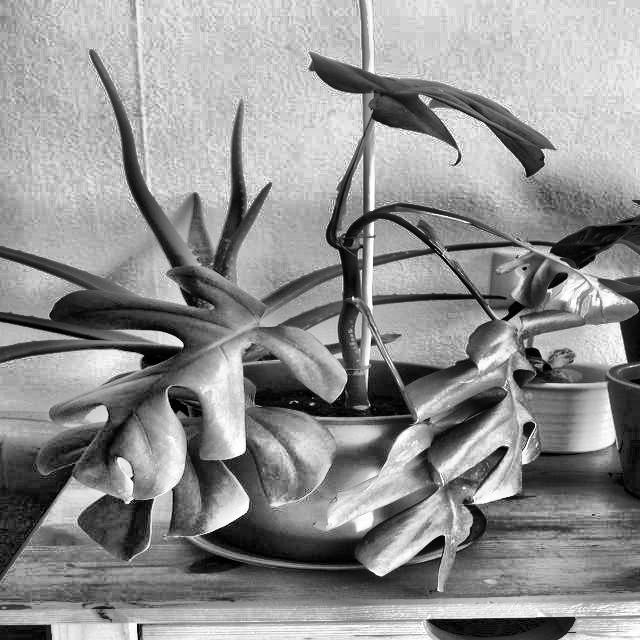plants: (45, 44, 639, 598), (331, 186, 639, 597)
